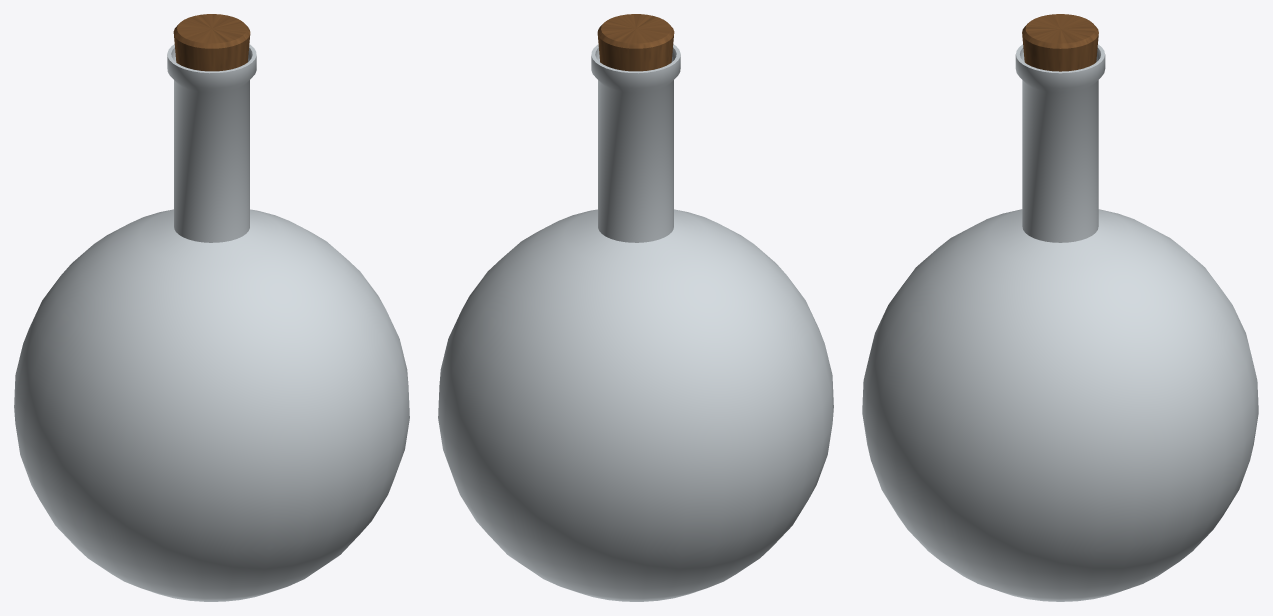
File: potion_flask.glb
The picture shows the model from 3 angles, left to right: view 1: azimuth 30°, elevation 25°; view 2: azimuth 150°, elevation 25°; view 3: azimuth 270°, elevation 25°; orthographic projection.
Visible parts, largest first — view 1: potion_flask_glass, potion_flask_cork; view 2: potion_flask_glass, potion_flask_cork; view 3: potion_flask_glass, potion_flask_cork.
Part boxes in pixels (box(x1,y1,x2,y2)): potion_flask_glass: box(14, 44, 409, 601); potion_flask_cork: box(173, 14, 250, 71); potion_flask_glass: box(438, 44, 833, 601); potion_flask_cork: box(597, 14, 674, 71); potion_flask_glass: box(862, 44, 1258, 601); potion_flask_cork: box(1022, 14, 1098, 71).
Bounding box in the file's own units: 0.0719 × 0.1074 × 0.0719.
2 materials, 1 textured.
